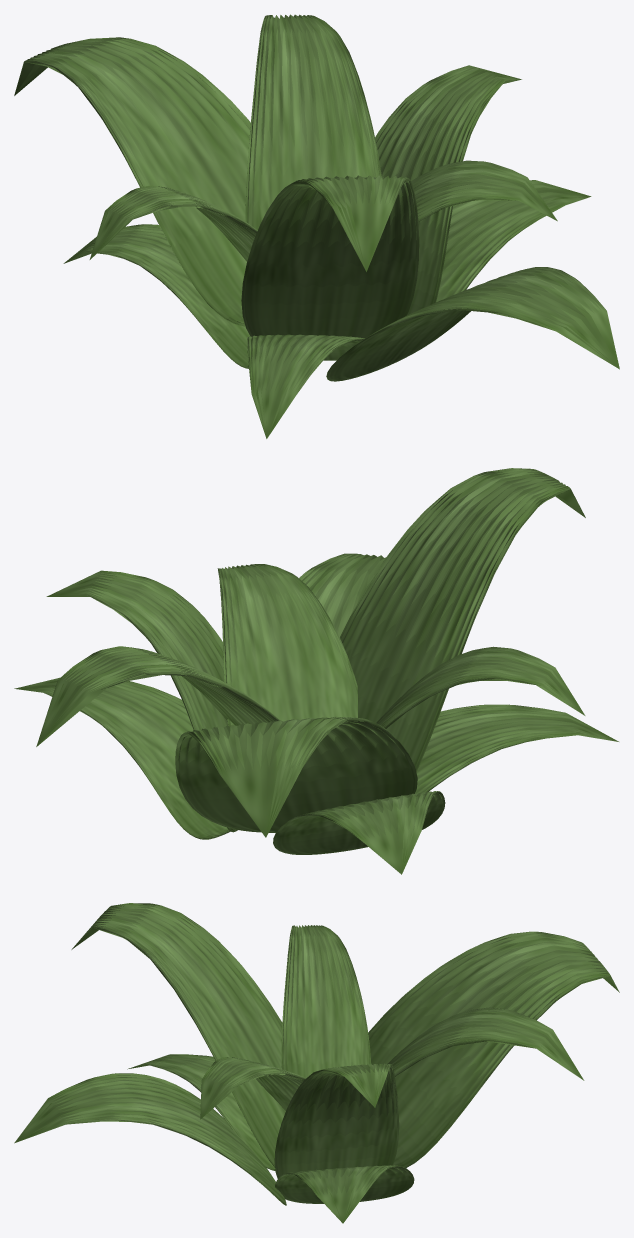
The model's file is plante.fbx.
The picture shows the model from 3 angles, top to bottom: view 1: azimuth 30°, elevation 25°; view 2: azimuth 150°, elevation 25°; view 3: azimuth 270°, elevation 25°; orthographic projection. The views are drawn at different scales.
Visible parts, largest first — view 1: Cone.003; view 2: Cone.003; view 3: Cone.003.
Boxes of the visible parts, x1=… form: Cone.003: x1=14, y1=14, x2=619, y2=438; Cone.003: x1=14, y1=468, x2=618, y2=874; Cone.003: x1=14, y1=903, x2=619, y2=1223.
Size of the model in its own units: 4744 by 3956 by 1978.
1 material, 1 textured.
